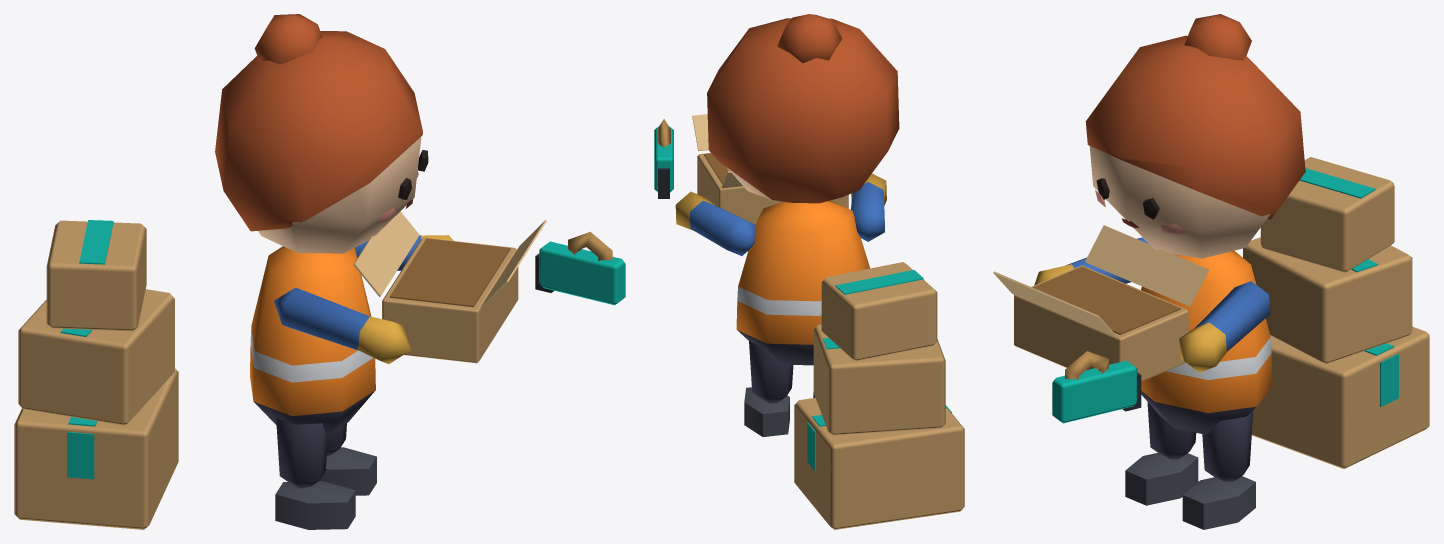
Rendered from station_processing_ausstattung_3_2.glb.
3 views of the same model, side by side, from view 1: azimuth 30°, elevation 25°; view 2: azimuth 150°, elevation 25°; view 3: azimuth 270°, elevation 25° (orthographic). The views are drawn at different scales.
Visible parts, largest first — view 1: station_processing_ausstattung_3_2; view 2: station_processing_ausstattung_3_2; view 3: station_processing_ausstattung_3_2.
Part boxes in pixels (x1,y1,x2,y2): station_processing_ausstattung_3_2: [14, 14, 625, 529]; station_processing_ausstattung_3_2: [654, 14, 964, 529]; station_processing_ausstattung_3_2: [993, 14, 1429, 529].
Size of the model in its own units: 1.22 by 1.17 by 0.9681.
